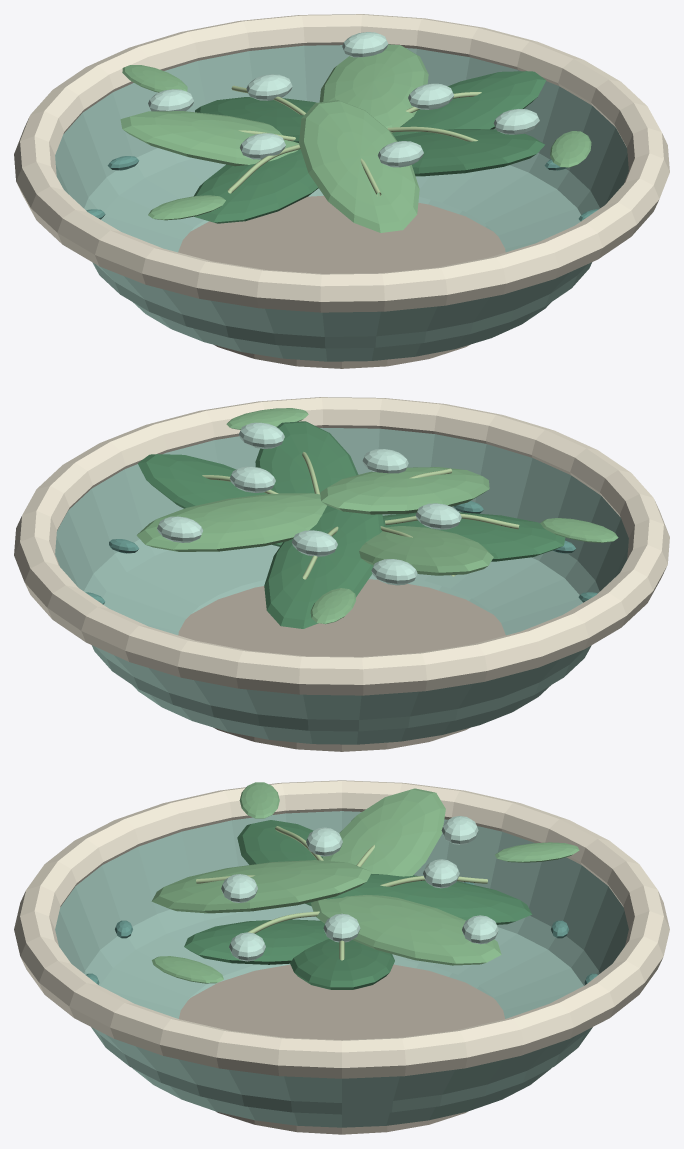
Rendered from washed_greens.glb.
3 renders of one model, top to bottom at view 1: azimuth 30°, elevation 25°; view 2: azimuth 150°, elevation 25°; view 3: azimuth 270°, elevation 25°, orthographic.
Parts seen in each view (by area): view 1: washed_herb_colander_hollow_profile, washed_herb_colander_rolled_lip, washed_herb_colander_foot_ring, rinsed_greens_whole_leaf_5, rinsed_greens_whole_leaf_1, rinsed_greens_whole_leaf_3, rinsed_greens_whole_leaf_4, rinsed_greens_whole_leaf_0, rinsed_greens_whole_leaf_6, rinsed_greens_whole_leaf_2, rinsed_loose_leaf_0, rinsed_loose_leaf_1 (+8 smaller); view 2: washed_herb_colander_hollow_profile, washed_herb_colander_rolled_lip, washed_herb_colander_foot_ring, rinsed_greens_whole_leaf_2, rinsed_greens_whole_leaf_1, rinsed_greens_whole_leaf_5, rinsed_greens_whole_leaf_6, rinsed_greens_whole_leaf_3, rinsed_greens_whole_leaf_0, rinsed_greens_whole_leaf_4, rinsed_loose_leaf_0, rinsed_loose_leaf_2 (+8 smaller); view 3: washed_herb_colander_hollow_profile, washed_herb_colander_rolled_lip, washed_herb_colander_foot_ring, rinsed_greens_whole_leaf_1, rinsed_greens_whole_leaf_5, rinsed_greens_whole_leaf_3, rinsed_greens_whole_leaf_2, rinsed_greens_whole_leaf_6, rinsed_greens_whole_leaf_0, rinsed_greens_whole_leaf_4, rinsed_loose_leaf_2, rinsed_loose_leaf_1 (+8 smaller).
Part boxes in pixels (x1,y1,x2,y2): washed_herb_colander_hollow_profile: [55, 45, 628, 361]; washed_herb_colander_rolled_lip: [14, 14, 669, 312]; washed_herb_colander_foot_ring: [178, 195, 505, 368]; rinsed_greens_whole_leaf_5: [299, 100, 419, 232]; rinsed_greens_whole_leaf_1: [319, 44, 428, 132]; rinsed_greens_whole_leaf_3: [120, 111, 298, 166]; rinsed_greens_whole_leaf_4: [194, 149, 318, 223]; rinsed_greens_whole_leaf_0: [392, 71, 546, 136]; rinsed_greens_whole_leaf_6: [394, 129, 544, 176]; rinsed_greens_whole_leaf_2: [195, 97, 316, 142]; rinsed_loose_leaf_0: [148, 195, 225, 220]; rinsed_loose_leaf_1: [550, 131, 591, 167]; washed_herb_colander_hollow_profile: [55, 428, 628, 744]; washed_herb_colander_rolled_lip: [14, 397, 669, 695]; washed_herb_colander_foot_ring: [178, 579, 505, 751]; rinsed_greens_whole_leaf_2: [264, 505, 383, 628]; rinsed_greens_whole_leaf_1: [136, 493, 326, 551]; rinsed_greens_whole_leaf_5: [320, 467, 489, 514]; rinsed_greens_whole_leaf_6: [255, 421, 358, 493]; rinsed_greens_whole_leaf_3: [359, 526, 493, 575]; rinsed_greens_whole_leaf_0: [137, 454, 282, 546]; rinsed_greens_whole_leaf_4: [382, 512, 565, 561]; rinsed_loose_leaf_0: [540, 518, 618, 542]; rinsed_loose_leaf_2: [310, 588, 355, 624]; washed_herb_colander_hollow_profile: [55, 811, 628, 1127]; washed_herb_colander_rolled_lip: [14, 780, 669, 1078]; washed_herb_colander_foot_ring: [179, 964, 504, 1134]; rinsed_greens_whole_leaf_1: [311, 895, 501, 965]; rinsed_greens_whole_leaf_5: [151, 860, 371, 913]; rinsed_greens_whole_leaf_3: [322, 788, 445, 876]; rinsed_greens_whole_leaf_2: [326, 874, 532, 924]; rinsed_greens_whole_leaf_6: [184, 919, 329, 964]; rinsed_greens_whole_leaf_0: [290, 938, 394, 989]; rinsed_greens_whole_leaf_4: [237, 820, 322, 906]; rinsed_loose_leaf_2: [495, 842, 579, 862]; rinsed_loose_leaf_1: [152, 956, 223, 983].
Bounding box in the file's own units: 0.6385 × 0.2 × 0.6385.
